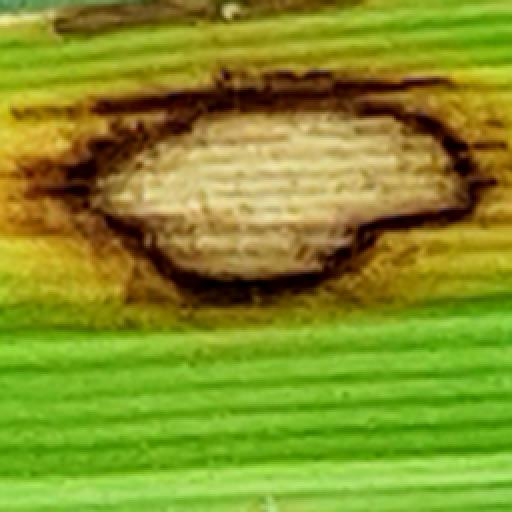Brown Spot: (0, 40, 512, 348), (46, 0, 392, 36)
